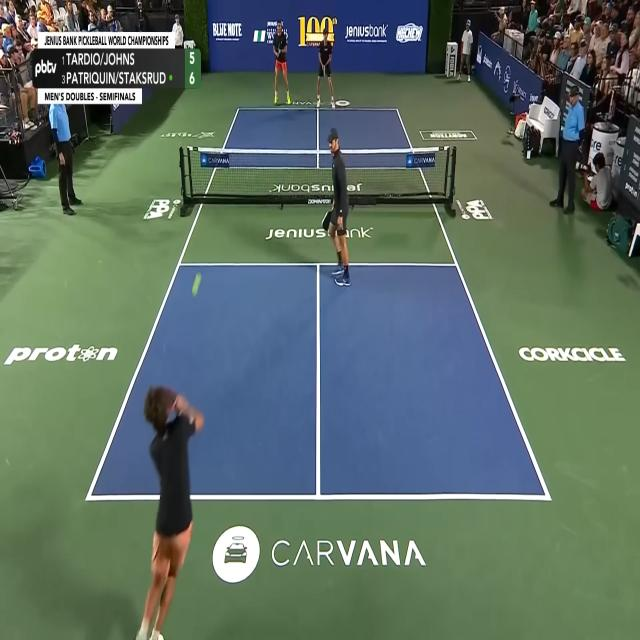ball: (191, 272, 202, 298)
